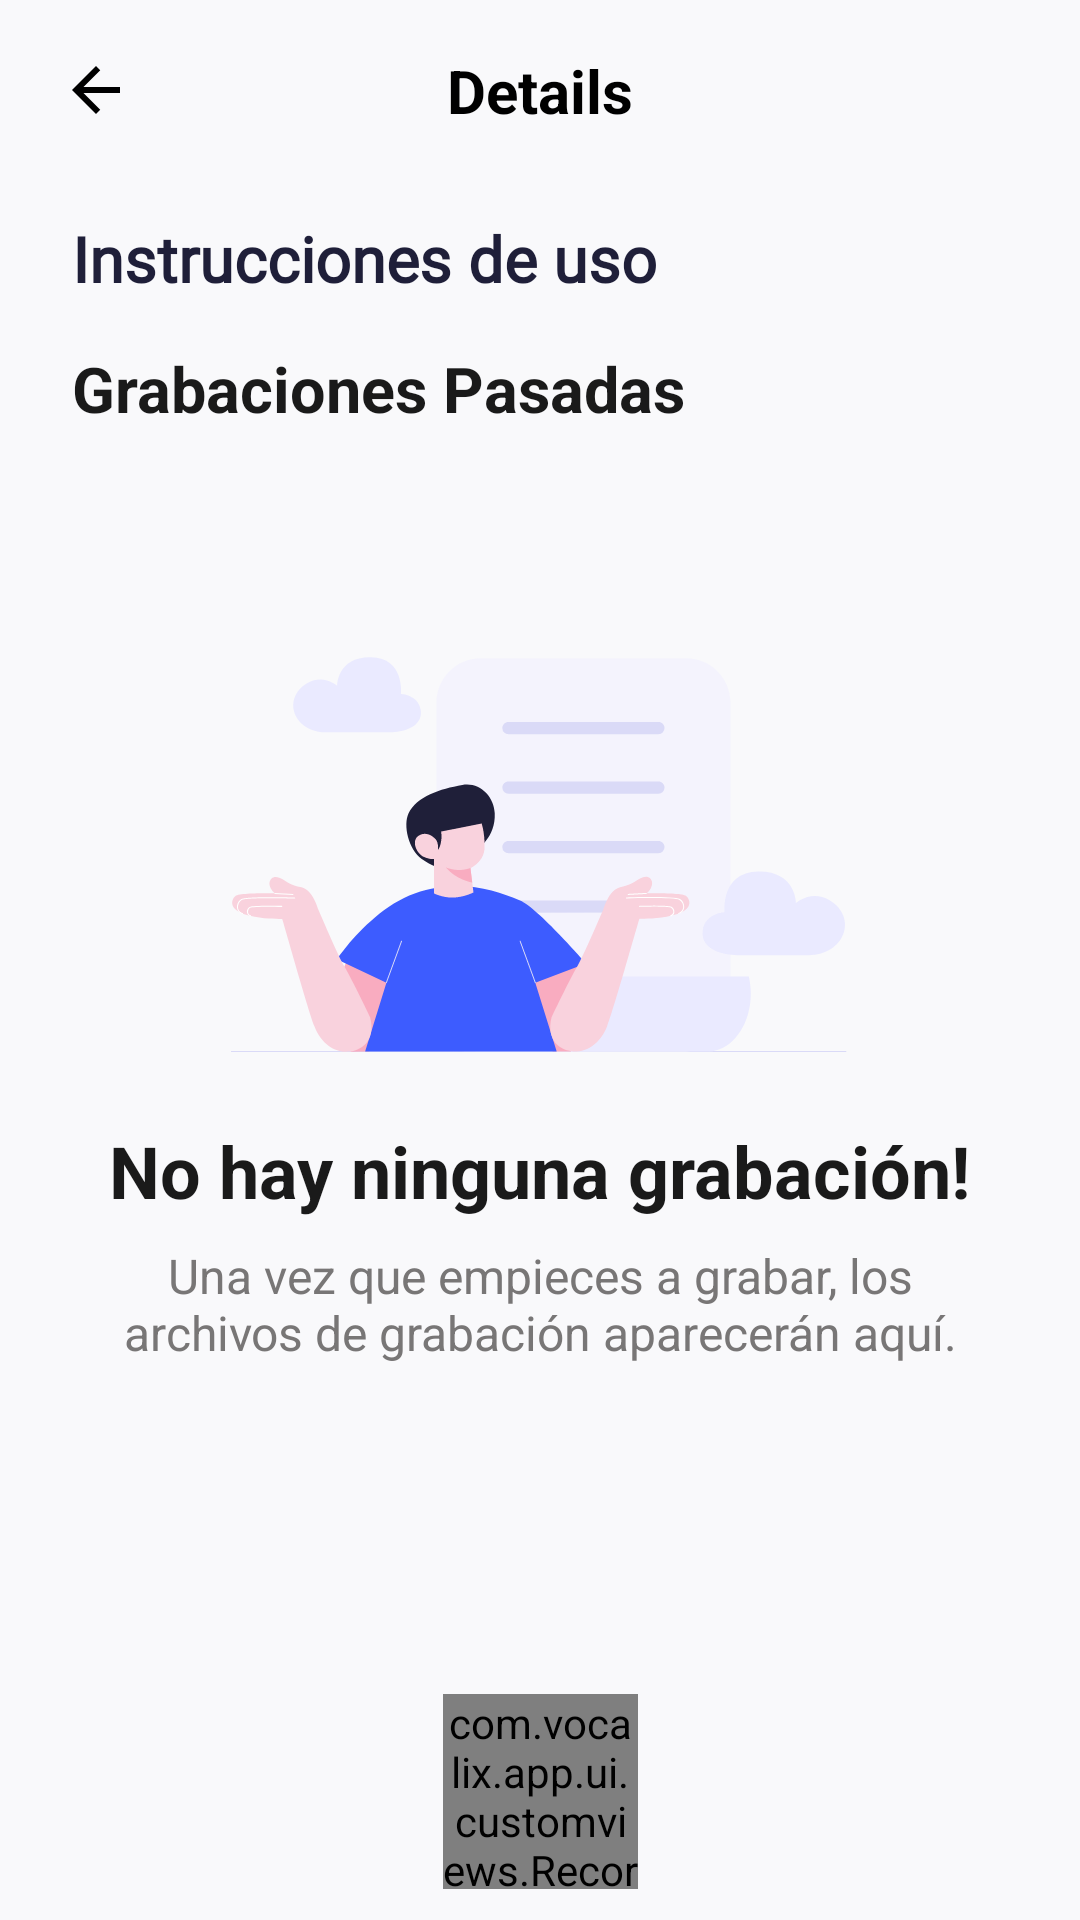

Icon click points for this 1080*1920 phone screenshot, format (x=x, y=y):
Navigate back to the previous screen: (x=96, y=90)
